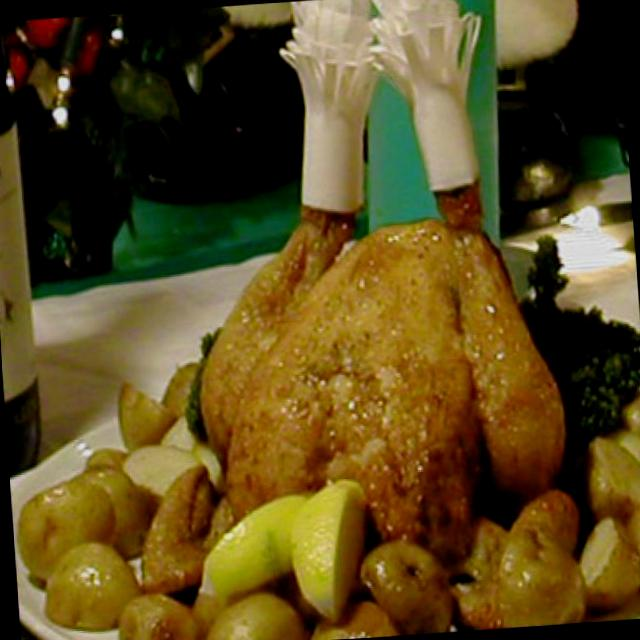Chicken: (185, 193, 568, 524)
